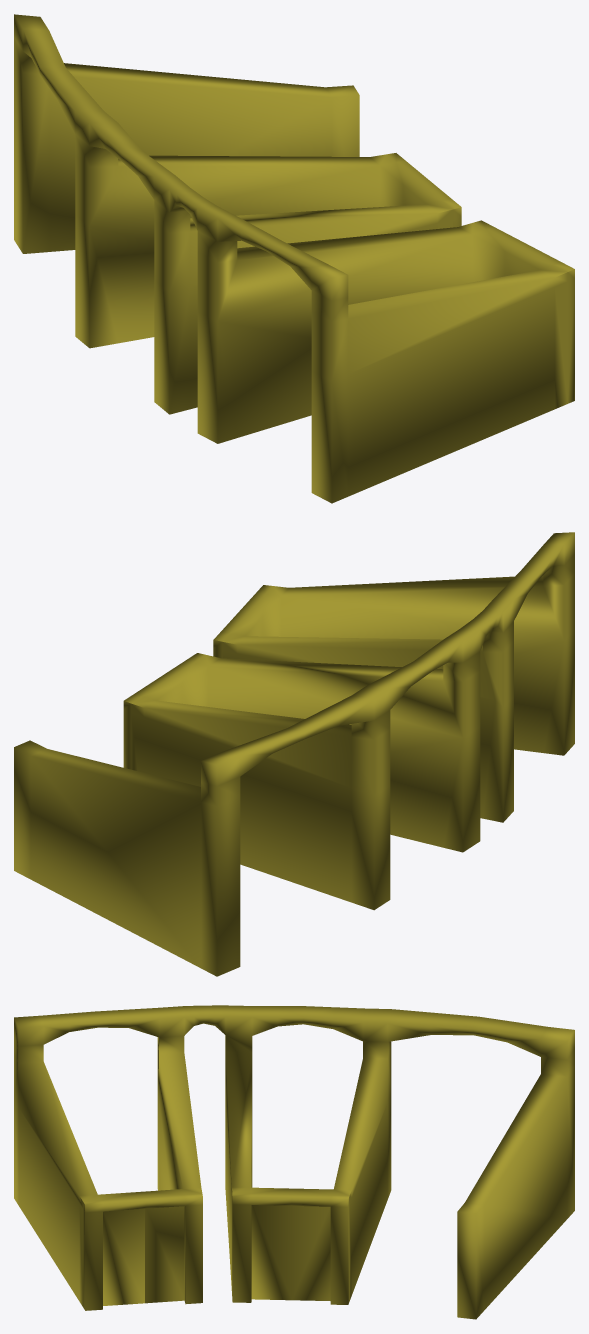
Rendered from ArenaProp_UV.fbx.
3 views of the same model, one above another, from view 1: azimuth 30°, elevation 25°; view 2: azimuth 150°, elevation 25°; view 3: azimuth 270°, elevation 25° (orthographic). The views are drawn at different scales.
Parts seen in each view (by area): view 1: ArenaProp; view 2: ArenaProp; view 3: ArenaProp.
Part boxes in pixels (left/top/right/bottom): ArenaProp: left=14, top=14, right=574, bottom=503; ArenaProp: left=14, top=532, right=574, bottom=976; ArenaProp: left=14, top=1005, right=574, bottom=1319.
Size of the model in its own units: 34.23 by 21.67 by 60.9.
